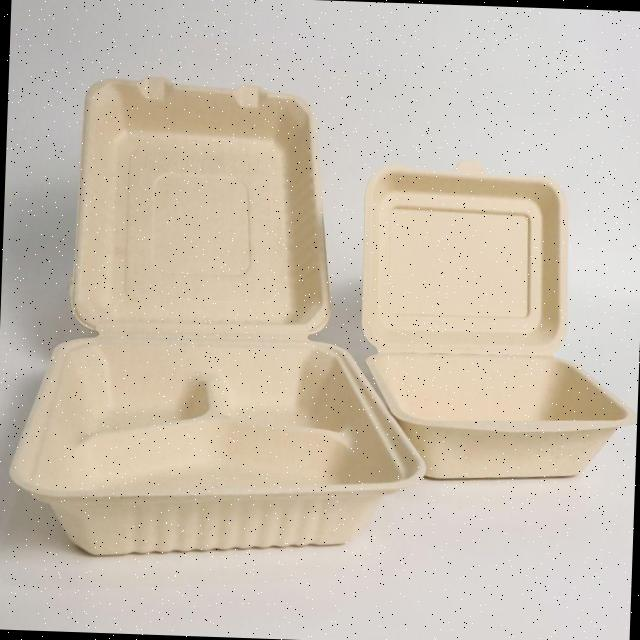styrofoam: (4, 69, 440, 566), (352, 156, 640, 486)
